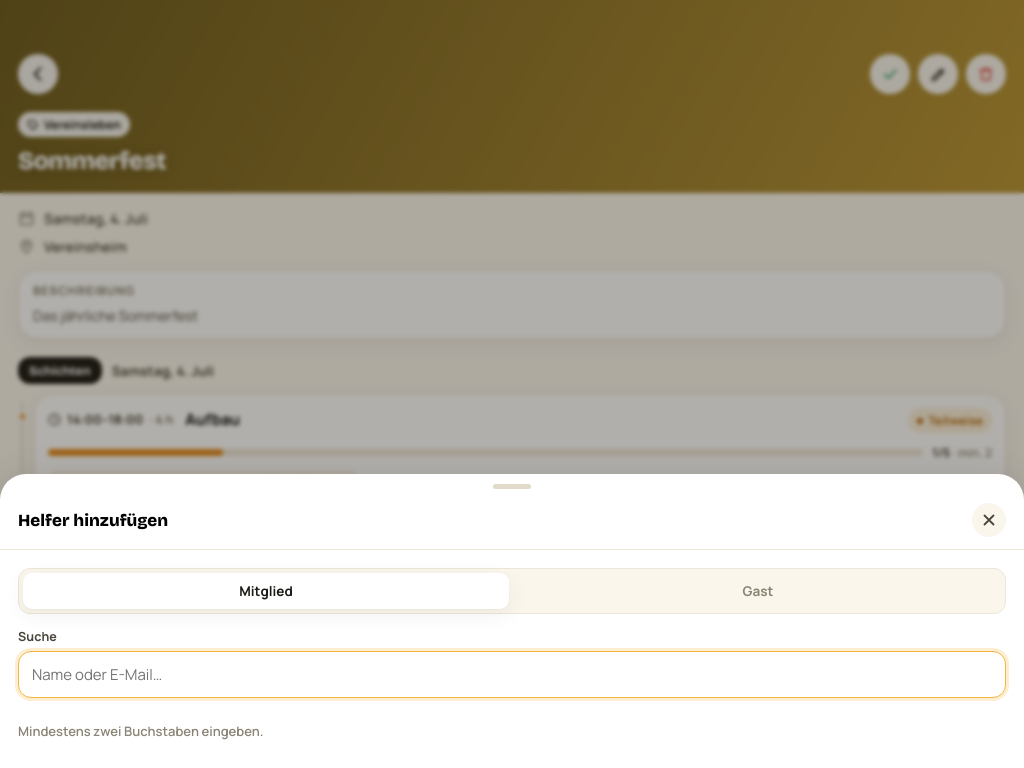
it: EventDetail helper names › searches helpers by name and hides those already in the shift
This screenshot has width=1024, height=768.
expect the text "Mindestens zwei Buchstaben eingeben." is shown: met, box [18,722,264,740]
Type "mus" into the field with placeholder "Name oder E-Mail…".
click(512, 674); type("mus")  # box [18,651,1006,698]
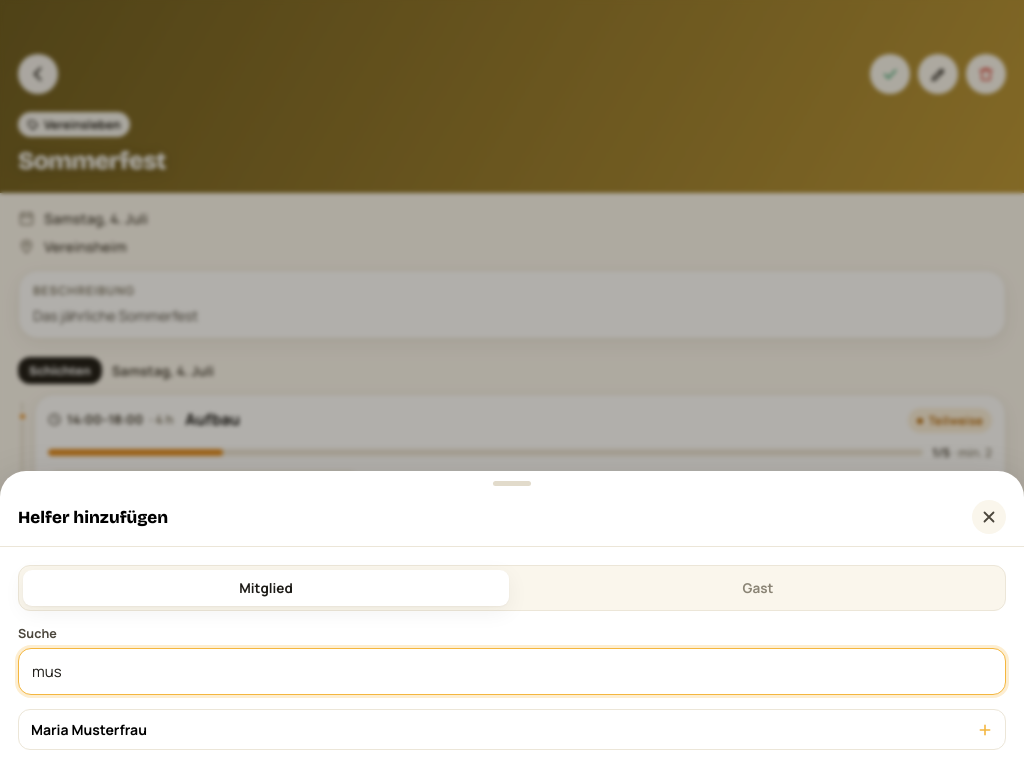
expect the text "Maria Musterfrau" is shown: met, box [31,720,147,739]
